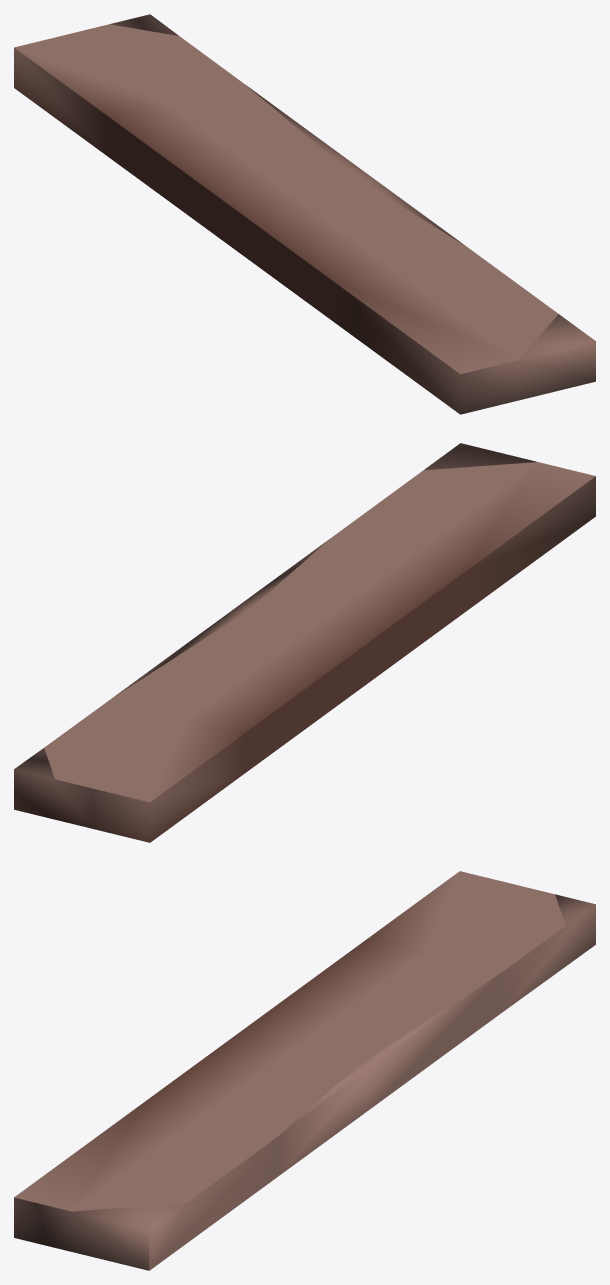
The model's file is HallPlatformRight.gltf.
3 renders of one model, top to bottom at view 1: azimuth 30°, elevation 25°; view 2: azimuth 150°, elevation 25°; view 3: azimuth 330°, elevation 25°, orthographic.
Visible parts, largest first — view 1: HallPlatformRightMesh; view 2: HallPlatformRightMesh; view 3: HallPlatformRightMesh.
Boxes of the visible parts, x1=… form: HallPlatformRightMesh: x1=14, y1=14, x2=595, y2=414; HallPlatformRightMesh: x1=14, y1=443, x2=595, y2=842; HallPlatformRightMesh: x1=14, y1=871, x2=595, y2=1270.
Size of the model in its own units: 3.51 by 0.9969 by 19.94.
